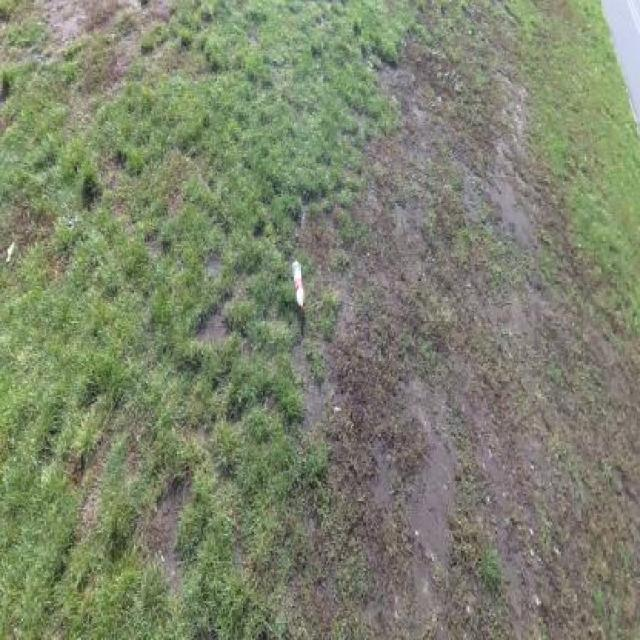Garbage: (291, 257, 304, 313)
